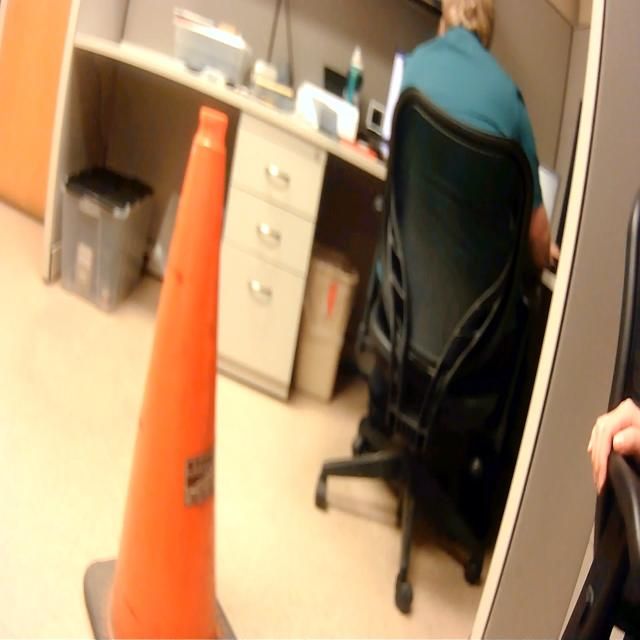traffic cone: (79, 98, 245, 640)
